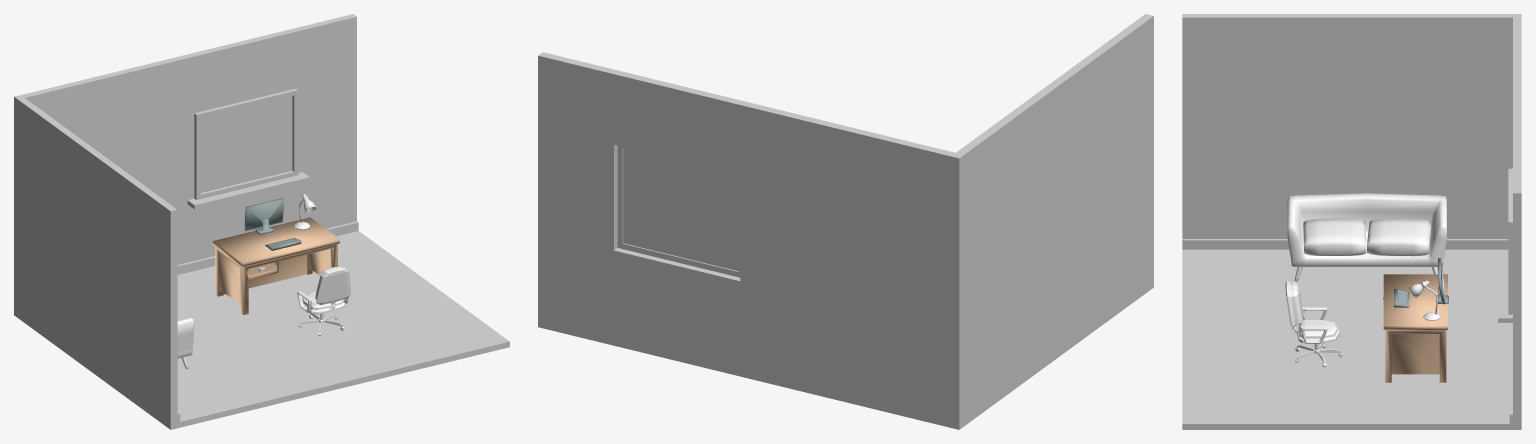
The model's file is vq1c-hero-corner.glb.
3 renders of one model, left to right at view 1: azimuth 30°, elevation 25°; view 2: azimuth 150°, elevation 25°; view 3: azimuth 270°, elevation 25°, orthographic. The views are drawn at different scales.
Visible parts, largest first — view 1: SIDE_WALL, FLOOR, BACK_WALL_LEFT, BACK_WALL_RIGHT, GLASS_PLACEHOLDER, desk, BACK_WALL_TOP, BACK_WALL_BOTTOM, OfficeChair, WINDOW_SILL, computerScreen, BASEBOARD_BACK (+5 smaller); view 2: BACK_WALL_LEFT, SIDE_WALL, BACK_WALL_RIGHT, BACK_WALL_BOTTOM, GLASS_PLACEHOLDER, BACK_WALL_TOP, FLOOR, FRAME_BOTTOM, FRAME_RIGHT; view 3: SIDE_WALL, FLOOR, Couch_Medium1, desk, BACK_WALL_RIGHT, OfficeChair, BASEBOARD_SIDE, BACK_WALL_LEFT, WINDOW_SILL, BACK_WALL_TOP, FRAME_RIGHT, BASEBOARD_BACK (+1 smaller).
Part boxes in pixels (x1,y1,x2,y2): SIDE_WALL: (14, 96, 177, 423); FLOOR: (14, 231, 509, 429); BACK_WALL_LEFT: (14, 53, 194, 311); BACK_WALL_RIGHT: (292, 14, 356, 228); GLASS_PLACEHOLDER: (200, 96, 292, 192); desk: (213, 217, 339, 314); BACK_WALL_TOP: (191, 29, 295, 113); BACK_WALL_BOTTOM: (194, 185, 295, 260); OfficeChair: (297, 267, 350, 336); WINDOW_SILL: (187, 172, 309, 209); computerScreen: (244, 198, 284, 234); BASEBOARD_BACK: (18, 221, 358, 312); BACK_WALL_LEFT: (740, 101, 964, 422); SIDE_WALL: (951, 14, 1153, 422); BACK_WALL_RIGHT: (538, 52, 618, 338); BACK_WALL_BOTTOM: (614, 248, 740, 369); GLASS_PLACEHOLDER: (623, 149, 738, 271); BACK_WALL_TOP: (614, 70, 744, 175); FLOOR: (538, 280, 1153, 429); FRAME_BOTTOM: (622, 243, 738, 277); FRAME_RIGHT: (617, 145, 623, 248); SIDE_WALL: (1182, 14, 1521, 238); FLOOR: (1182, 249, 1521, 429); Couch_Medium1: (1287, 193, 1446, 281); desk: (1383, 274, 1447, 382); BACK_WALL_RIGHT: (1513, 161, 1521, 423); OfficeChair: (1285, 280, 1343, 367); BASEBOARD_SIDE: (1182, 239, 1508, 249); BACK_WALL_LEFT: (1513, 14, 1521, 107); WINDOW_SILL: (1498, 257, 1512, 322); BACK_WALL_TOP: (1513, 107, 1521, 160); FRAME_RIGHT: (1508, 220, 1512, 314); BASEBOARD_BACK: (1509, 323, 1512, 423).
Bounding box in the file's own units: 5 × 3.08 × 4.
